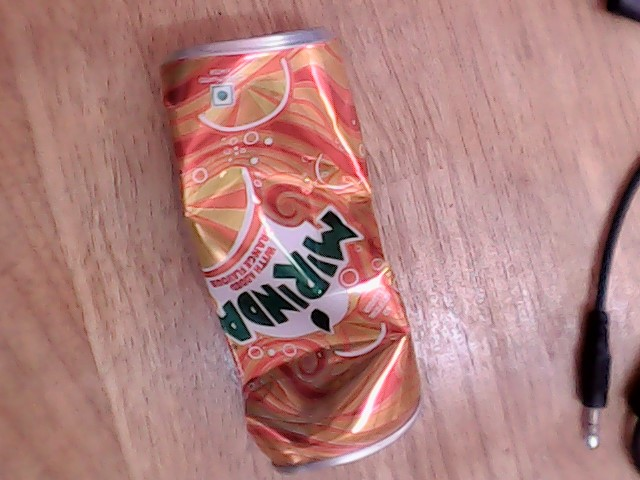Metal: (139, 49, 436, 480)
